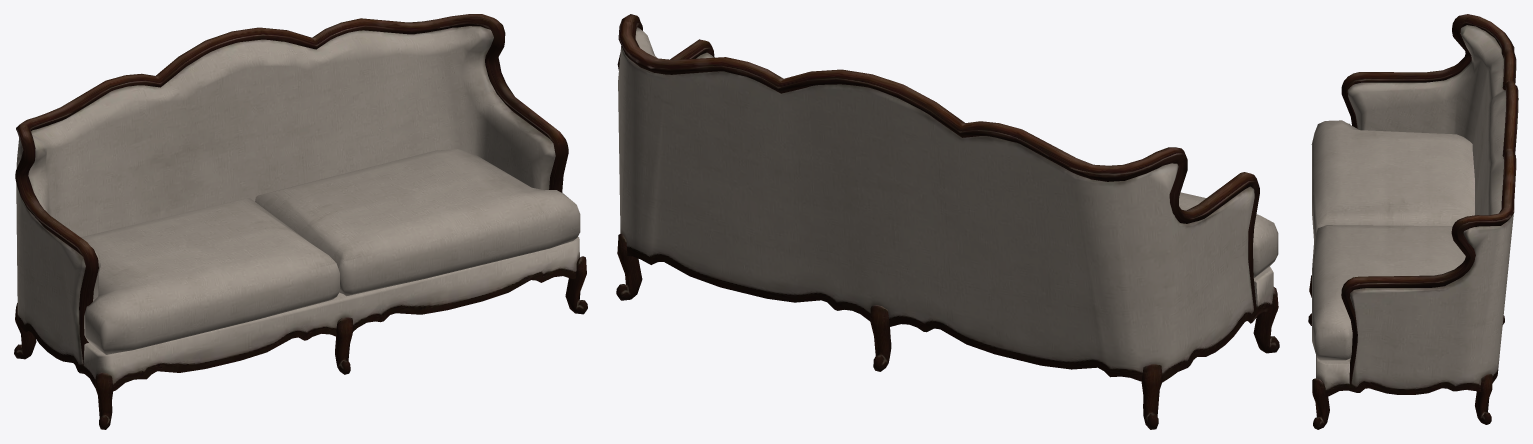
Rendered from sofa.glb.
3 views of the same model, side by side, from view 1: azimuth 30°, elevation 25°; view 2: azimuth 150°, elevation 25°; view 3: azimuth 270°, elevation 25° (orthographic). The views are drawn at different scales.
Parts seen in each view (by area): view 1: Sofa_01; view 2: Sofa_01; view 3: Sofa_01.
Boxes of the visible parts, x1,y1,x2,y2 form: Sofa_01: (14, 14, 587, 429); Sofa_01: (616, 14, 1279, 429); Sofa_01: (1308, 14, 1518, 429).
Bounding box in the file's own units: 1.57 × 0.7954 × 0.658.
1 material, 1 textured.
